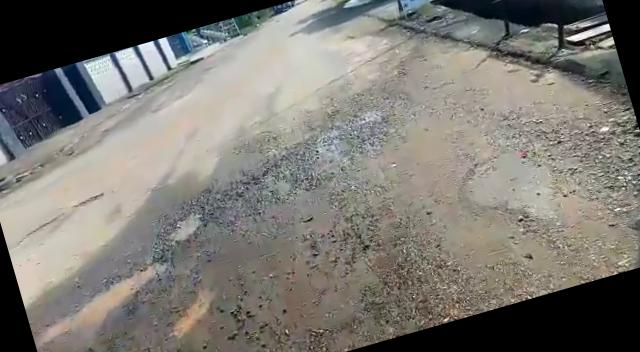pothole: (162, 207, 208, 245)
